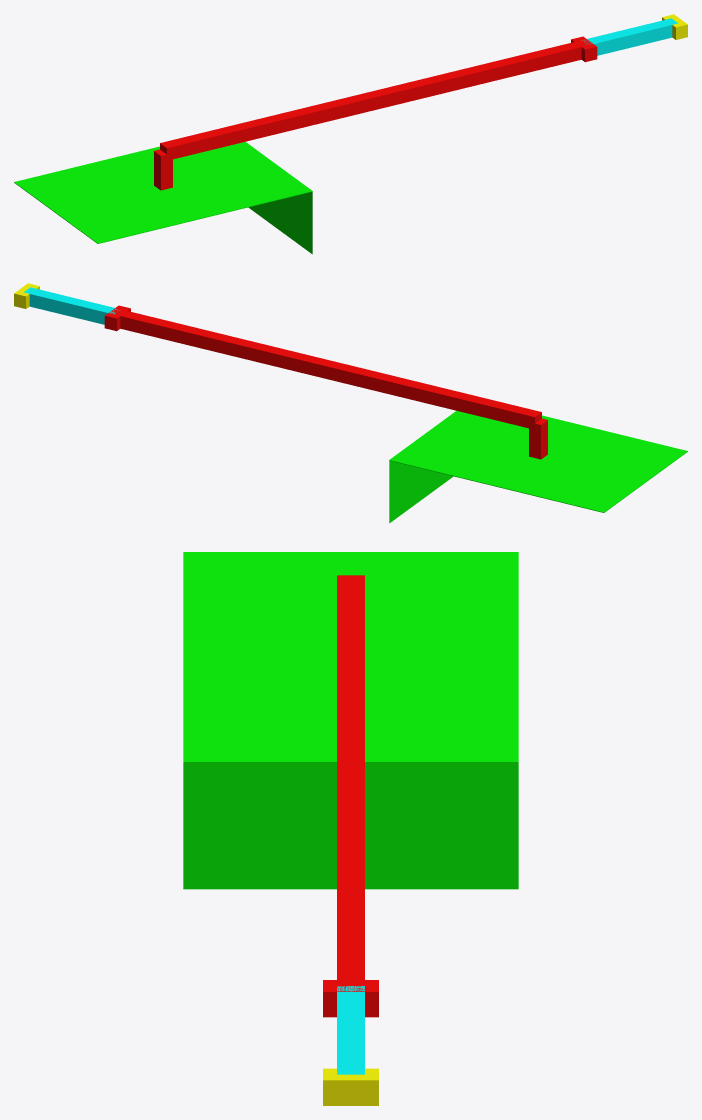
The model's file is rsx_arm.dae.
3 renders of one model, top to bottom at view 1: azimuth 30°, elevation 25°; view 2: azimuth 150°, elevation 25°; view 3: azimuth 270°, elevation 25°, orthographic. The views are drawn at different scales.
Visible parts, largest first — view 1: link0_base, link2_shoulder, link3_elbow, link5_wrist2, link1_waist; view 2: link0_base, link2_shoulder, link3_elbow, link5_wrist2, link1_waist, link4_wrist1; view 3: link0_base, link2_shoulder, link3_elbow, link5_wrist2, link6_wrist3, link4_wrist1.
Boxes of the visible parts, x1,y1,x2,y2 form: link0_base: (14, 141, 312, 254); link2_shoulder: (160, 89, 387, 159); link3_elbow: (381, 40, 587, 106); link5_wrist2: (581, 18, 677, 55); link1_waist: (154, 149, 172, 190); link0_base: (389, 410, 687, 523); link2_shoulder: (314, 358, 541, 428); link3_elbow: (114, 310, 320, 375); link5_wrist2: (24, 287, 119, 324); link1_waist: (529, 418, 547, 459); link4_wrist1: (104, 305, 130, 331); link0_base: (183, 552, 518, 889); link2_shoulder: (337, 575, 364, 790); link3_elbow: (337, 791, 364, 985); link5_wrist2: (337, 986, 364, 1074); link6_wrist3: (323, 1068, 378, 1105); link4_wrist1: (323, 980, 378, 1017).
Bounding box in the file's own units: 103 × 24 × 16.5.
